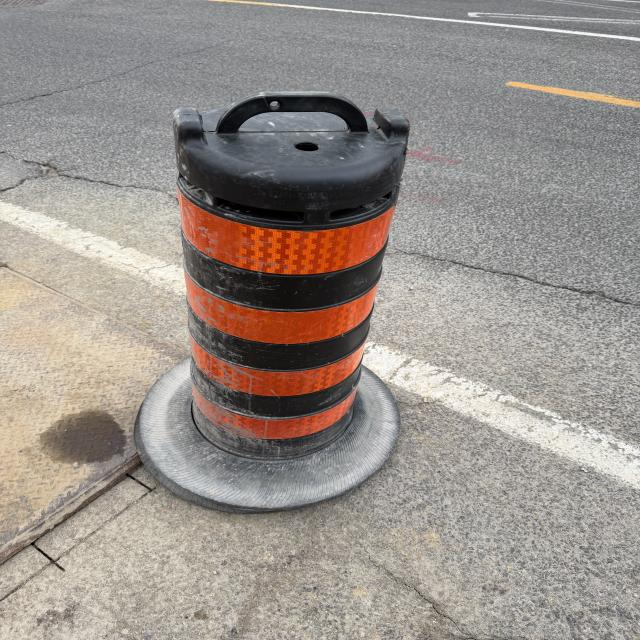Teraffic Barrel: (135, 92, 409, 512)
